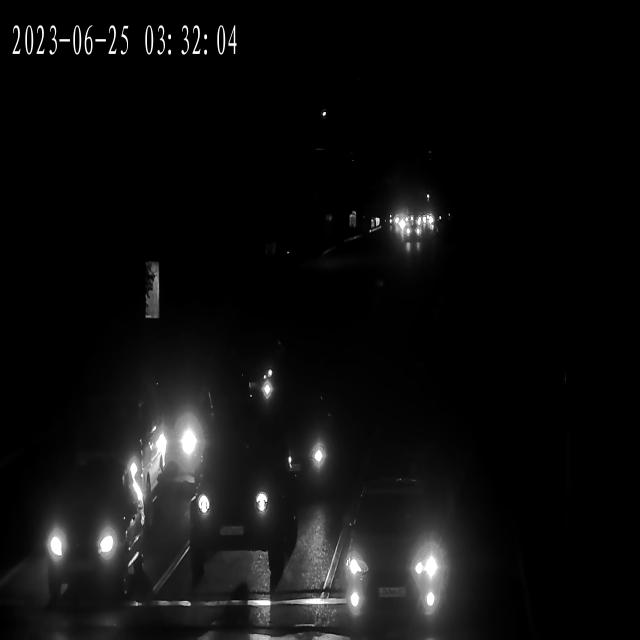Car: (335, 486, 453, 617), (27, 476, 142, 609), (191, 453, 287, 550), (129, 382, 213, 476), (268, 405, 338, 499), (398, 227, 420, 246), (402, 225, 423, 243)
